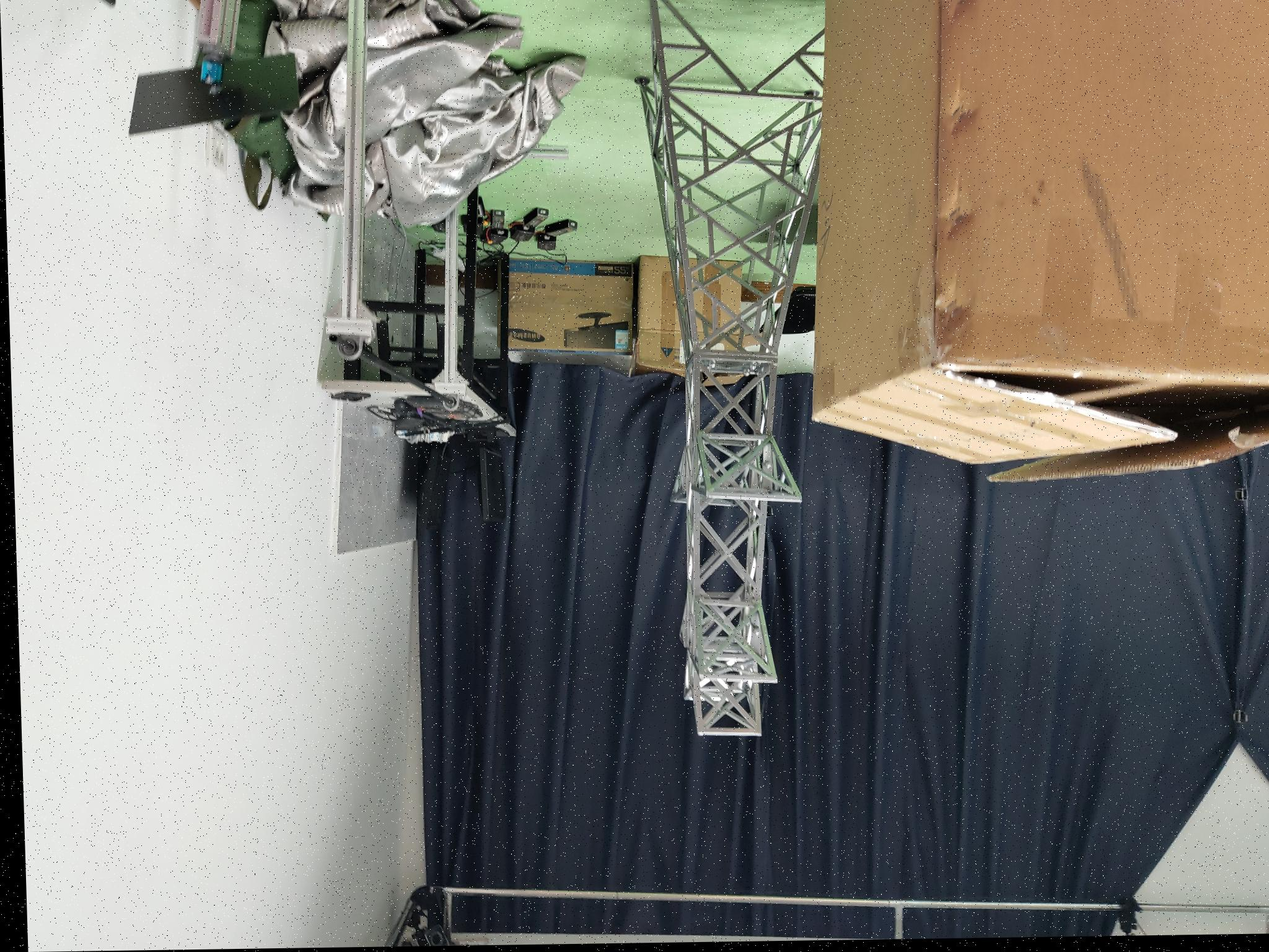tower: (633, 0, 843, 741)
